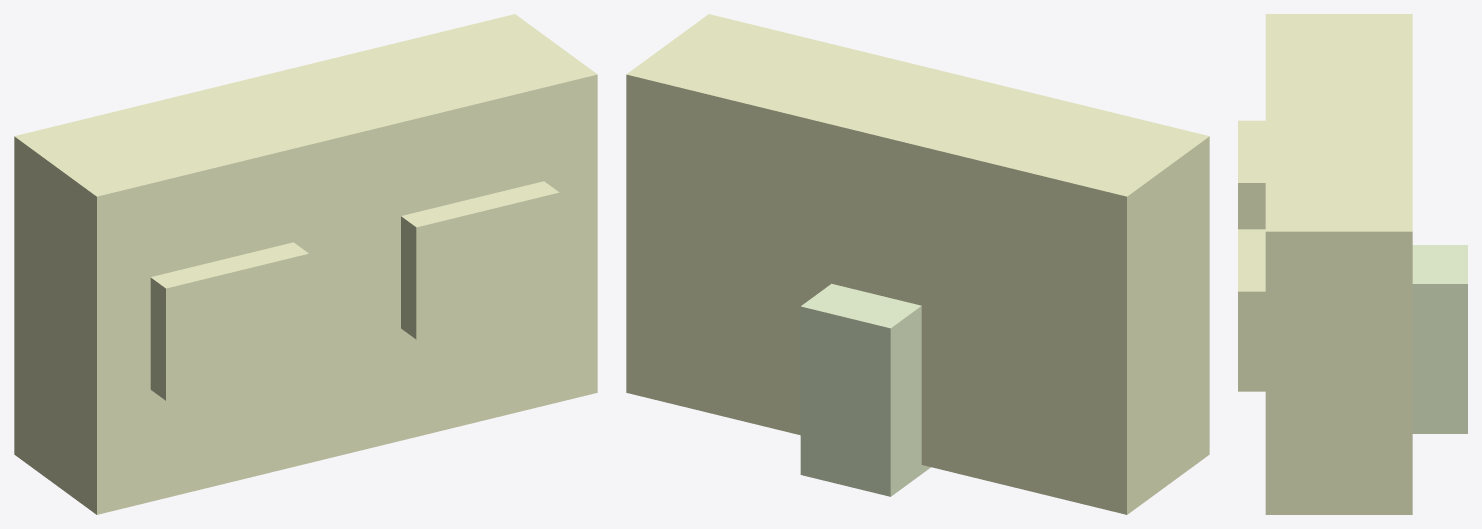
Rendered from signal_pedestrian_wait_indicator_dual_horizontal.glb.
3 renders of one model, left to right at view 1: azimuth 30°, elevation 25°; view 2: azimuth 150°, elevation 25°; view 3: azimuth 270°, elevation 25°, orthographic. The views are drawn at different scales.
Parts seen in each view (by area): view 1: housing, display_wait_left, display_wait_right; view 2: housing, bracket; view 3: housing, bracket, display_wait_right, display_wait_left.
Boxes of the visible parts, <box> form: housing: <box>14,14,597,514</box>; display_wait_left: <box>150,242,308,400</box>; display_wait_right: <box>401,181,559,339</box>; housing: <box>626,14,1209,514</box>; bracket: <box>800,283,930,496</box>; housing: <box>1265,14,1412,514</box>; bracket: <box>1412,245,1467,433</box>; display_wait_right: <box>1238,229,1265,391</box>; display_wait_left: <box>1238,120,1265,229</box>.
Size of the model in its own units: 0.56 by 0.35 by 0.25.
